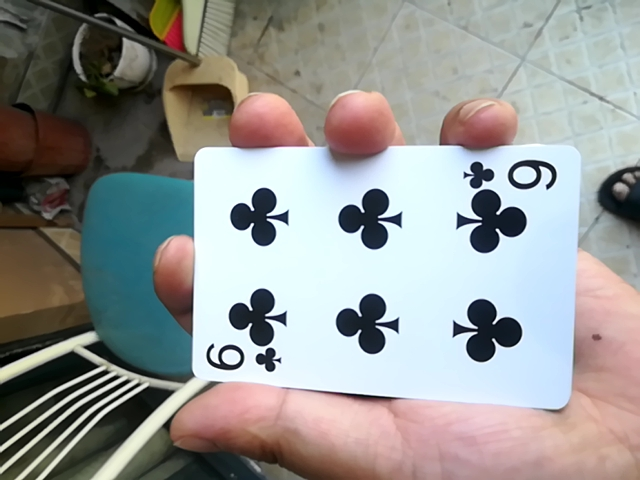mh 6: (177, 138, 583, 409)
